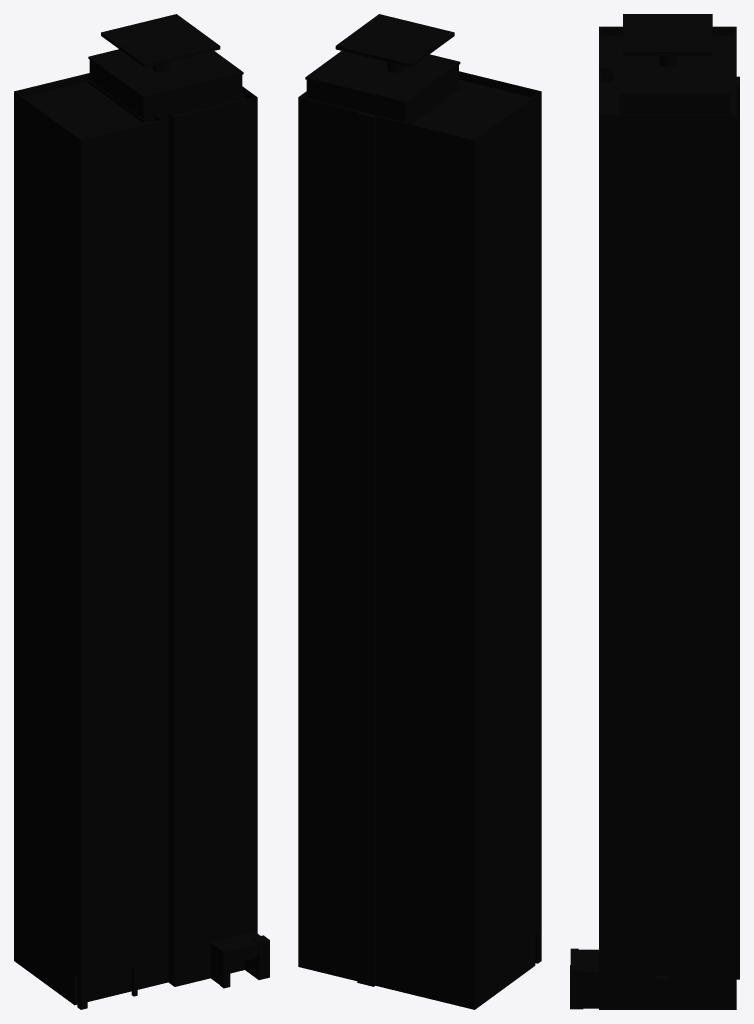
File: HighriseTower103_L1_5x4_LOD2.fbx
The picture shows the model from 3 angles, left to right: view 1: azimuth 30°, elevation 25°; view 2: azimuth 150°, elevation 25°; view 3: azimuth 270°, elevation 25°; orthographic projection. The views are drawn at different scales.
Parts seen in each view (by area): view 1: HighriseTower103_L1_5x4_LOD2; view 2: HighriseTower103_L1_5x4_LOD2; view 3: HighriseTower103_L1_5x4_LOD2.
Boxes of the visible parts, x1,y1,x2,y2 form: HighriseTower103_L1_5x4_LOD2: (14, 14, 269, 1009); HighriseTower103_L1_5x4_LOD2: (298, 14, 541, 1009); HighriseTower103_L1_5x4_LOD2: (570, 14, 739, 1009).
Bounding box in the file's own units: 3202 × 15913 × 2591.
Materials: 1 (1 with a texture image).
